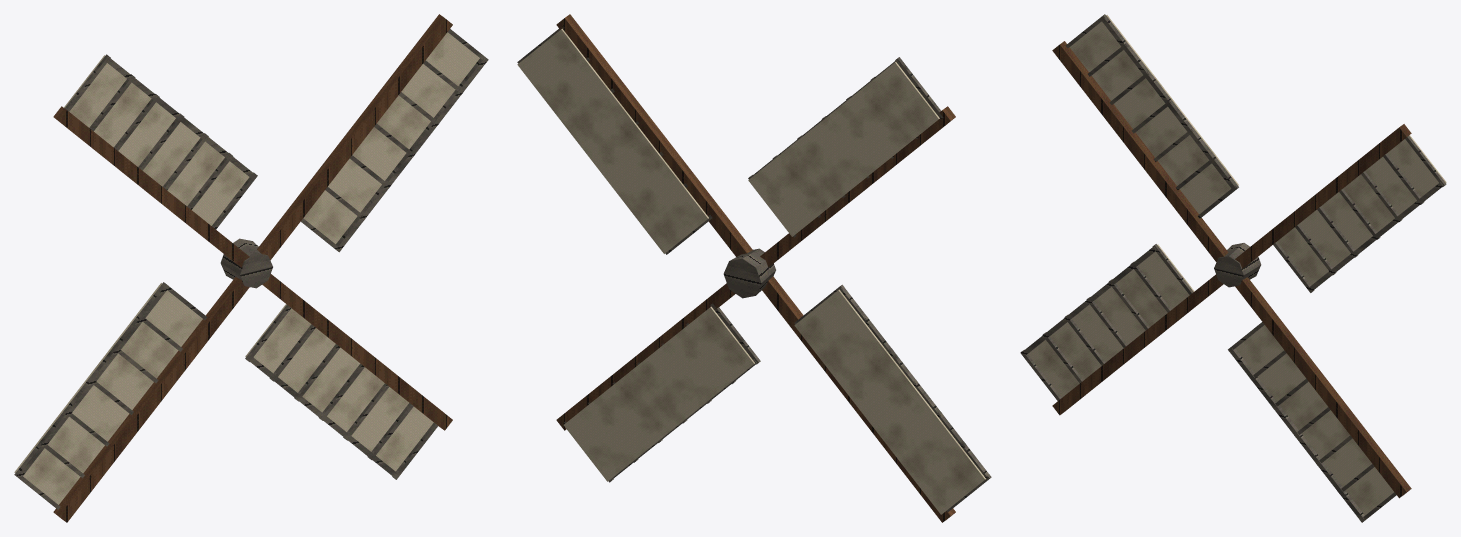
File: molino_aspas.obj
The picture shows the model from 3 angles, left to right: view 1: azimuth 30°, elevation 25°; view 2: azimuth 150°, elevation 25°; view 3: azimuth 330°, elevation 25°; orthographic projection. The views are drawn at different scales.
Parts seen in each view (by area): view 1: molino_aspas; view 2: molino_aspas; view 3: molino_aspas.
Boxes of the visible parts, x1,y1,x2,y2 form: molino_aspas: (14, 14, 488, 522); molino_aspas: (517, 14, 991, 522); molino_aspas: (1020, 14, 1446, 522).
Bounding box in the file's own units: 7.96 × 7.96 × 0.5.
Materials: 3 (3 with a texture image).
